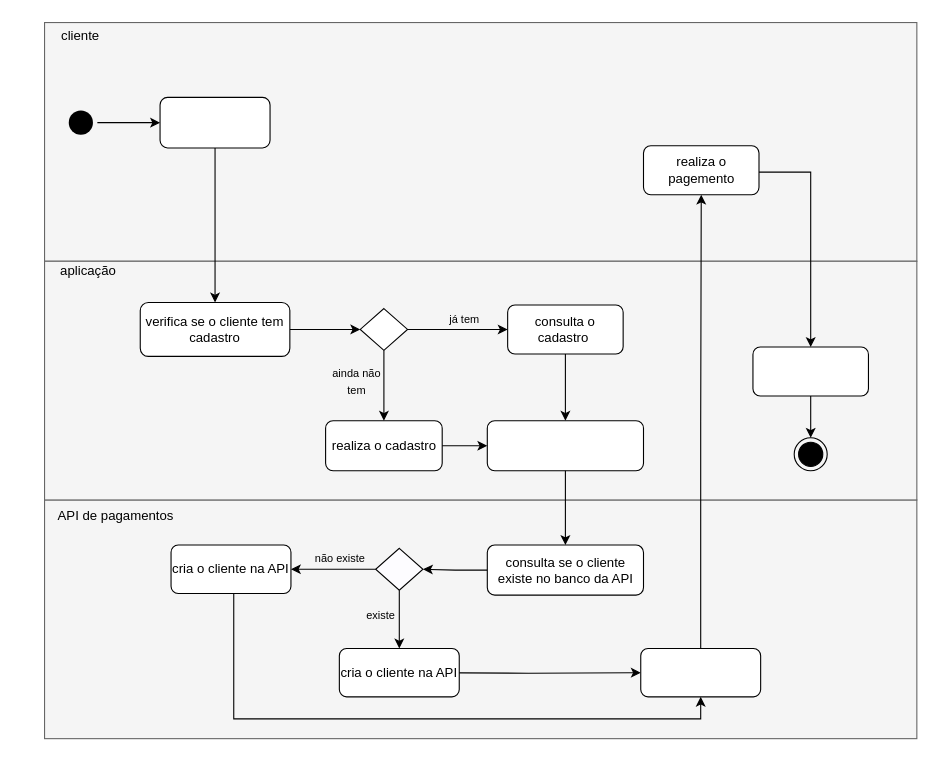
Image size: 936x758. Some labels were removed from this diagram. The box of each missing label's shape, as (x1, y1, x2, y2) in pixels:
criação do boleto ou PIX: (640, 647, 761, 697)
envvia os dados da compra por email: (752, 346, 868, 396)
escolhe a forma de pgto (boleto ou pix): (486, 420, 644, 471)
escolhe os produtos: (159, 96, 270, 148)
